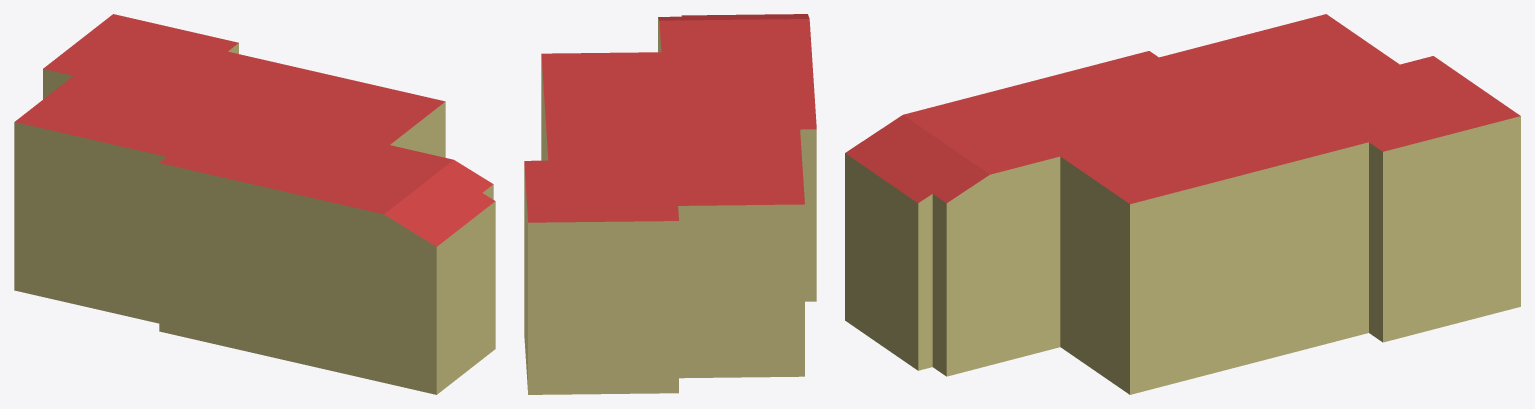
3 views of the same model, side by side, from view 1: azimuth 30°, elevation 25°; view 2: azimuth 150°, elevation 25°; view 3: azimuth 270°, elevation 25° (orthographic). The views are drawn at different scales.
Size of the model in its own units: 16.86 by 25.31 by 7.88.
